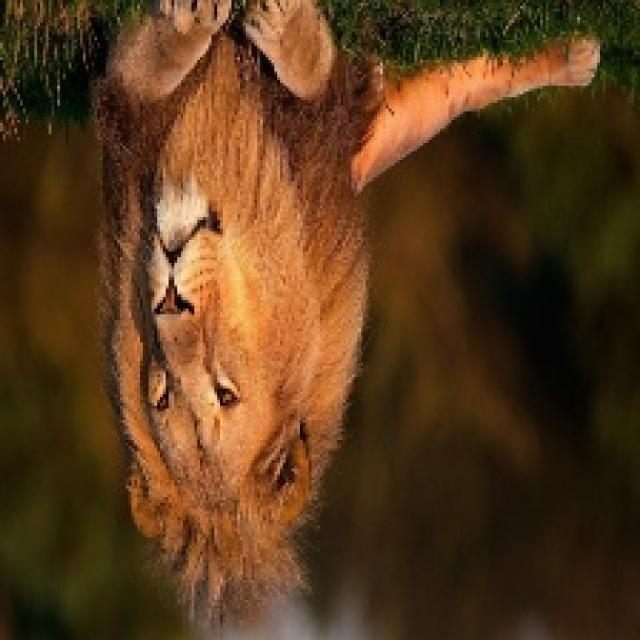bear: (79, 0, 578, 603)
